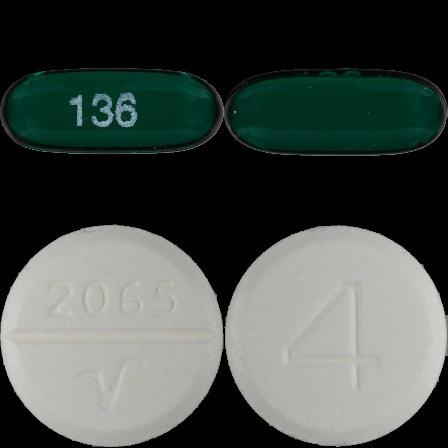68788-9256: (0, 0, 224, 224)
